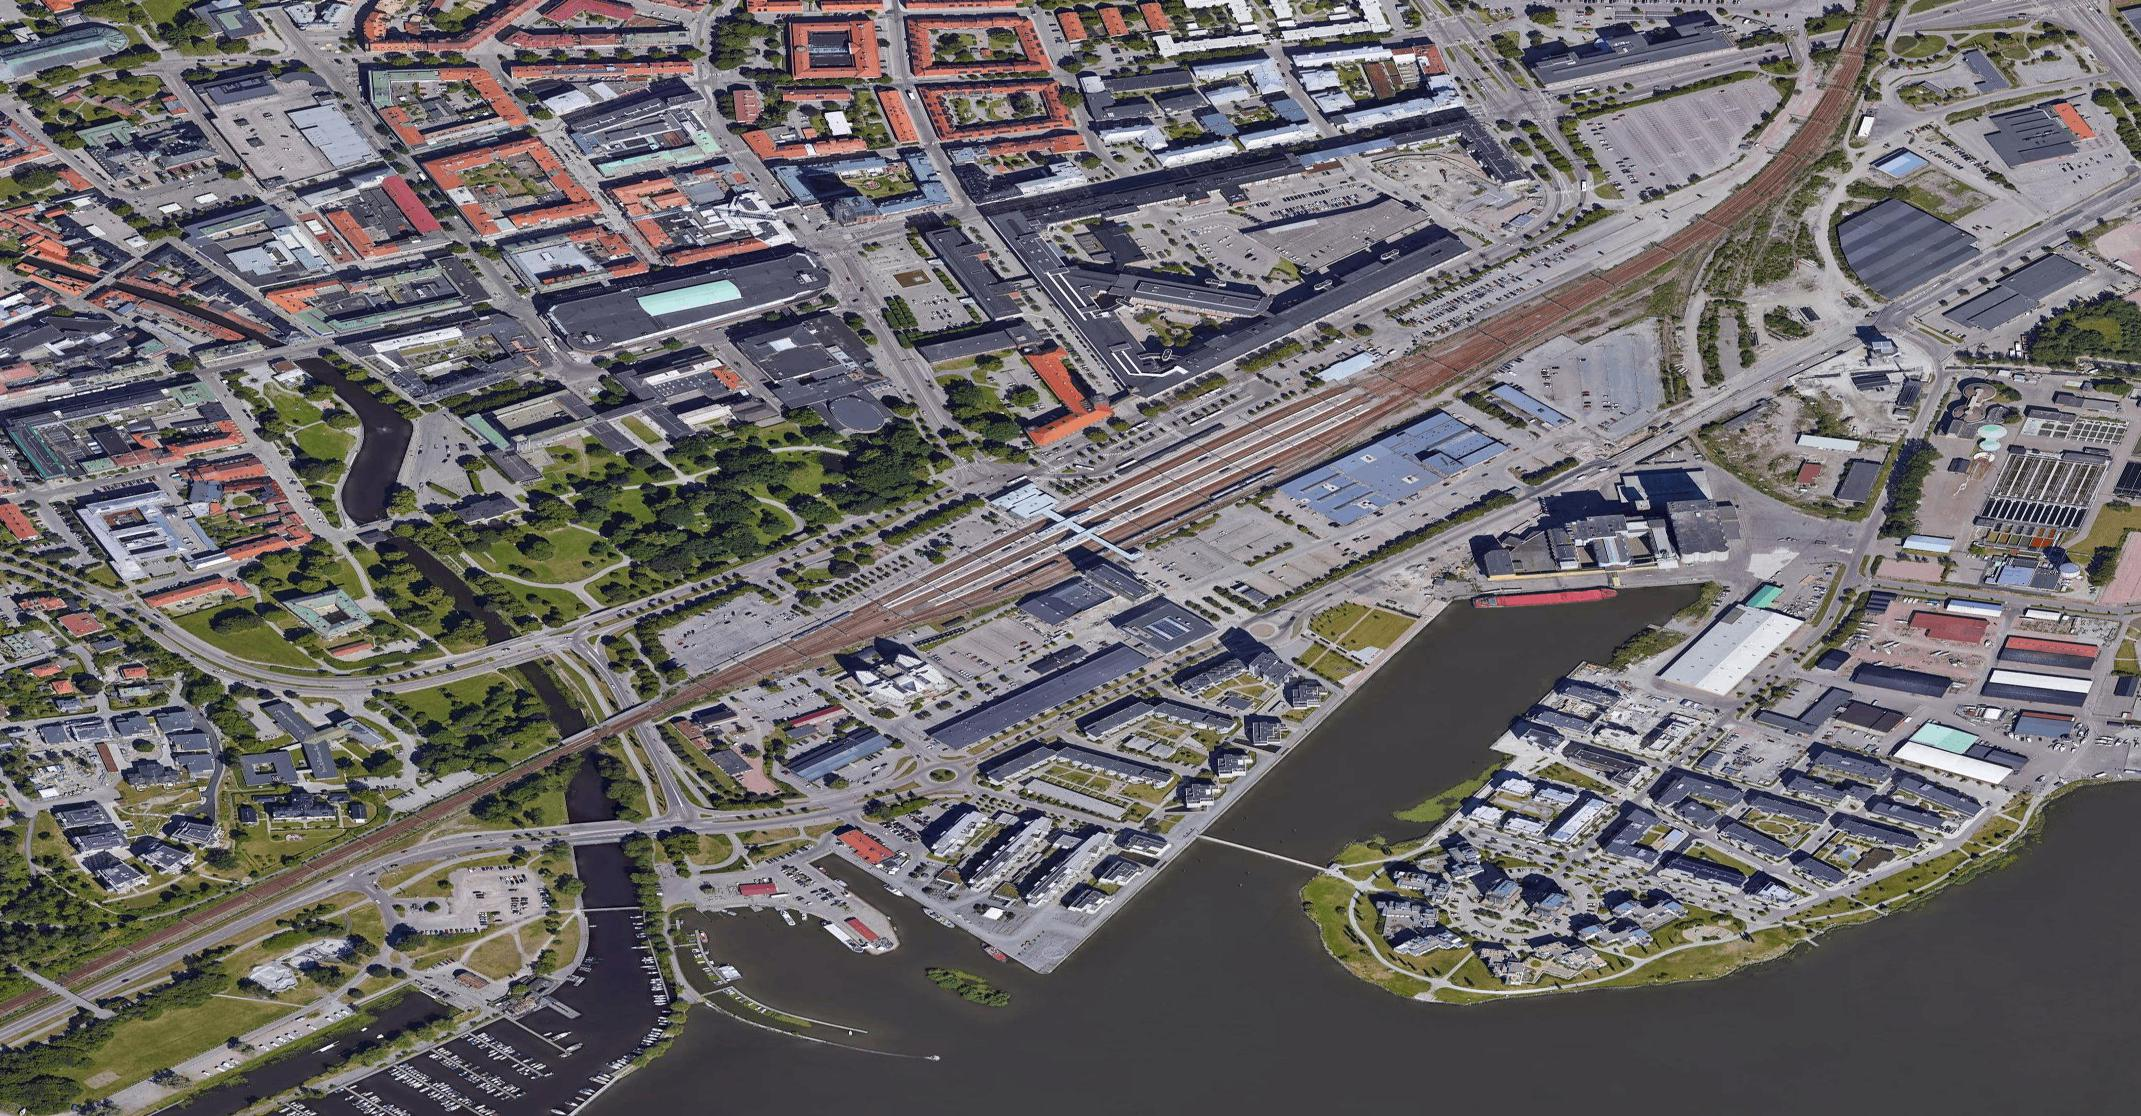bridge: (1197, 829, 1330, 877), (487, 625, 544, 676), (551, 817, 632, 844)
harbor: (171, 814, 1096, 1116), (1266, 523, 1730, 786)
train_station: (929, 455, 1172, 602)
